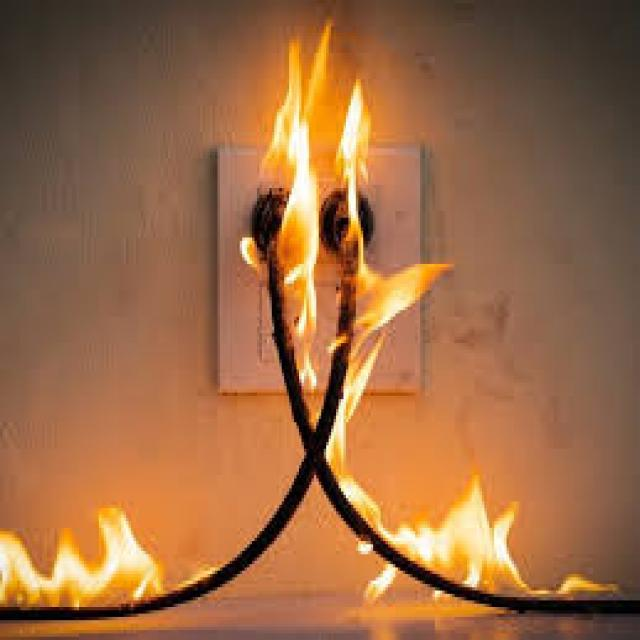fire: (327, 241, 457, 351), (238, 24, 330, 179), (392, 474, 493, 589), (238, 178, 318, 286), (324, 351, 379, 460), (335, 79, 372, 240), (98, 506, 158, 605), (0, 528, 52, 607), (52, 527, 98, 608), (494, 499, 531, 597), (292, 287, 318, 389), (339, 475, 381, 534), (532, 574, 619, 599), (362, 563, 395, 605)
